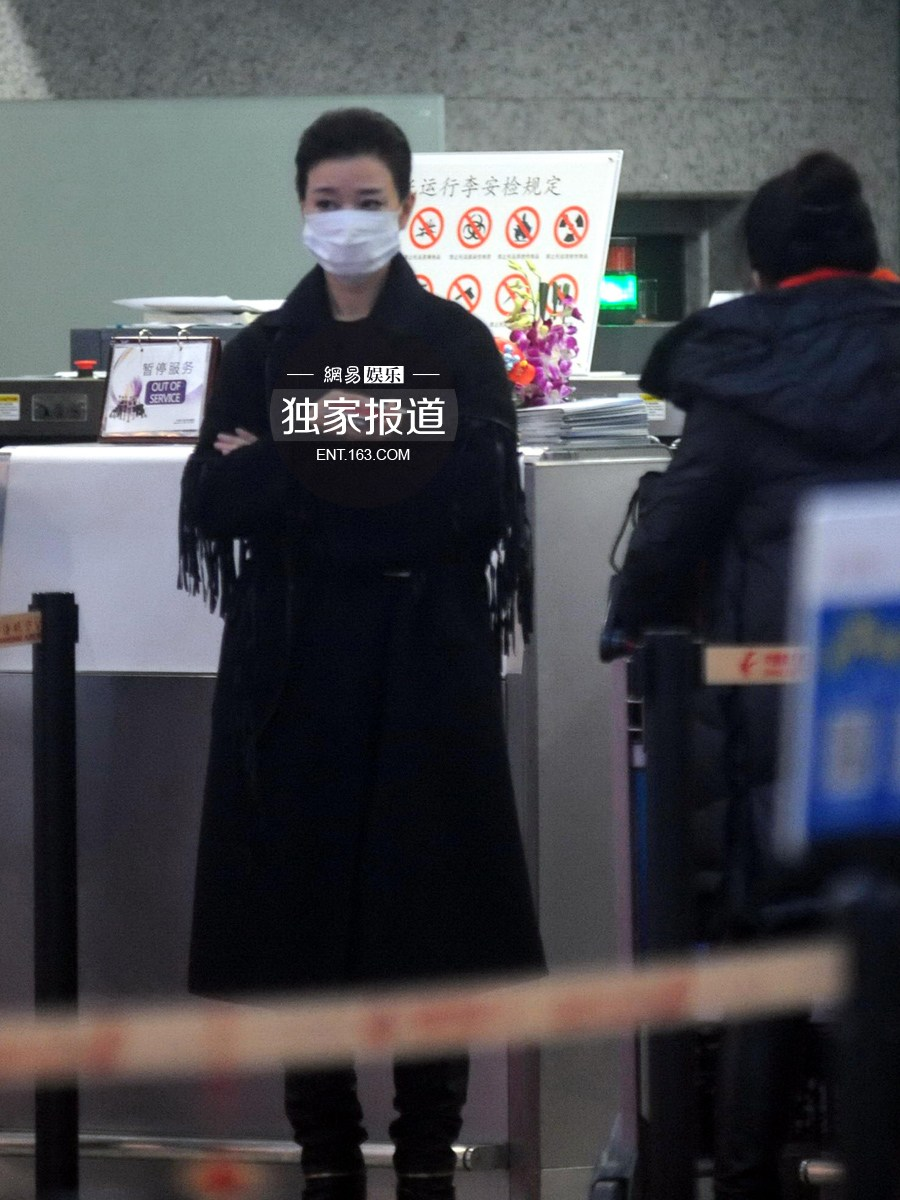face_mask: (305, 151, 394, 281)
